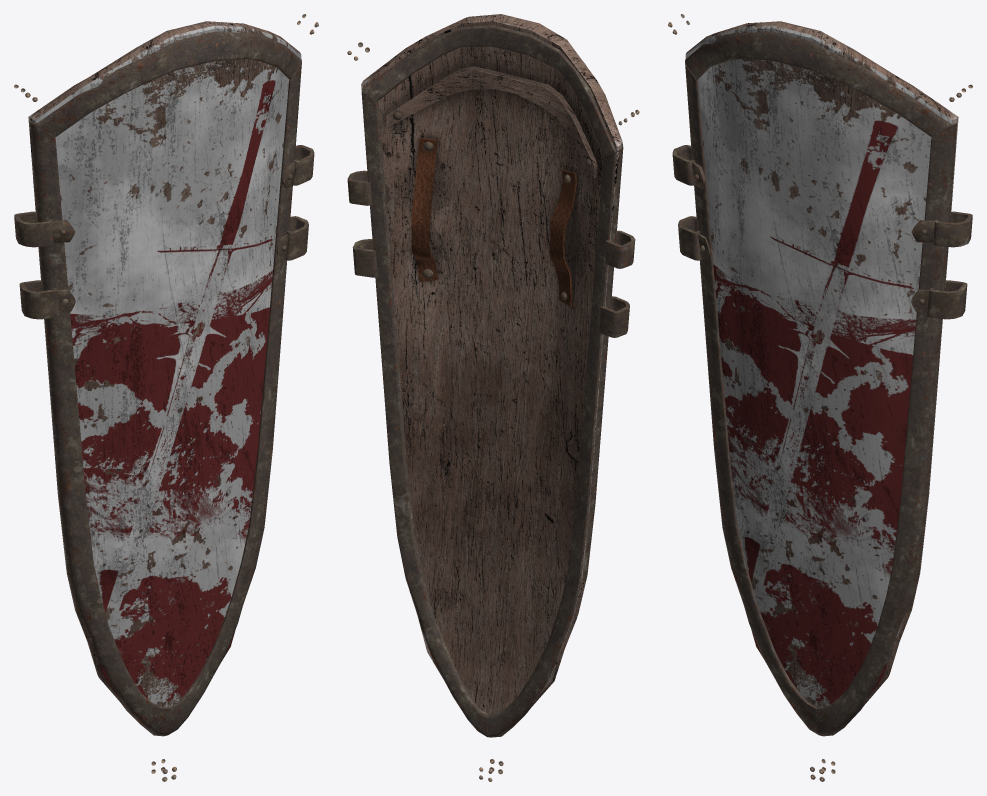
The model's file is hero_kite_shield.glb.
The picture shows the model from 3 angles, left to right: view 1: azimuth 30°, elevation 25°; view 2: azimuth 150°, elevation 25°; view 3: azimuth 330°, elevation 25°; orthographic projection. The views are drawn at different scales.
Visible parts, largest first — view 1: kite_shield_body, kite_shield_metal_trim, kite_shield_clamps_and_bolts; view 2: kite_shield_body, kite_shield_metal_trim, kite_shield_clamps_and_bolts; view 3: kite_shield_body, kite_shield_metal_trim, kite_shield_clamps_and_bolts.
Part boxes in pixels (<box>): kite_shield_body: <box>28,21,301,708</box>; kite_shield_metal_trim: <box>30,31,301,736</box>; kite_shield_clamps_and_bolts: <box>14,14,318,781</box>; kite_shield_body: <box>361,14,622,714</box>; kite_shield_metal_trim: <box>361,25,623,737</box>; kite_shield_clamps_and_bolts: <box>347,42,639,781</box>; kite_shield_body: <box>685,21,958,707</box>; kite_shield_metal_trim: <box>685,31,956,736</box>; kite_shield_clamps_and_bolts: <box>668,14,972,781</box>.
Size of the model in its own units: 0.4057 by 1.01 by 0.0935.
Materials: 2 (2 with a texture image).
